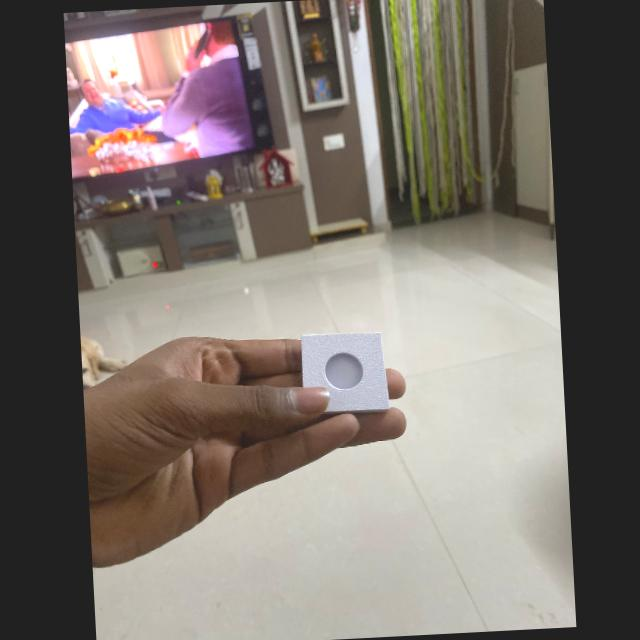RASPBERY PI CAM ENCLOSURE: (300, 331, 390, 415)
